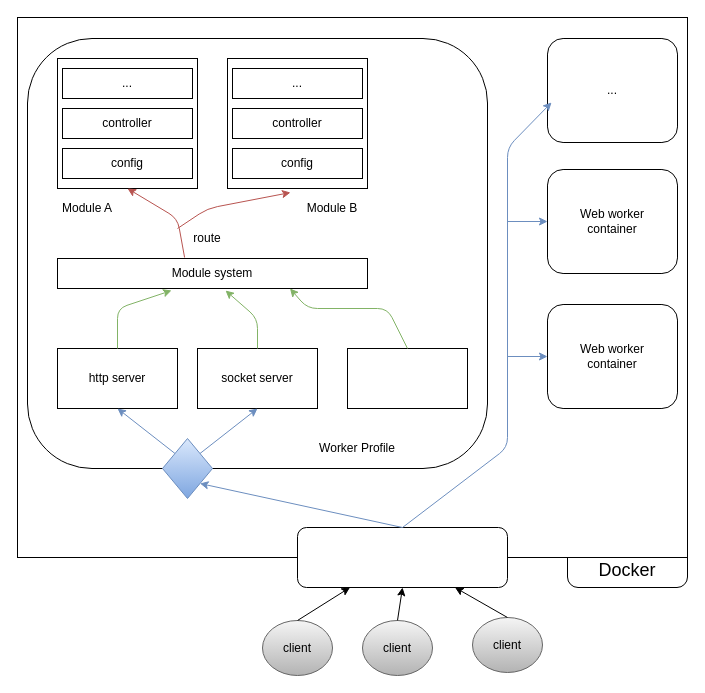
Image size: 705x693. Some labels were removed from this diagram. Here are the shapes that lost their labels. From the top down, the centre of each, then its label:
At point 407,378: "scheduled tasks".
At point 187,468: "in".
At point 402,557: "Load balancer container".
